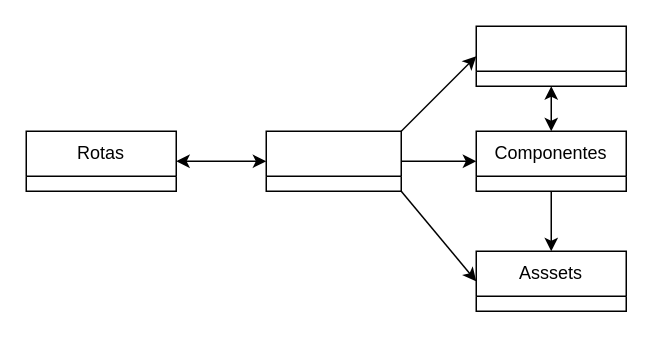
Image size: 653x338. Some labels were removed from this diagram. The centre of each missing label's shape, as x and y in pixels:
"Contexto" goes at [550,55].
"Telas" goes at [333,160].
